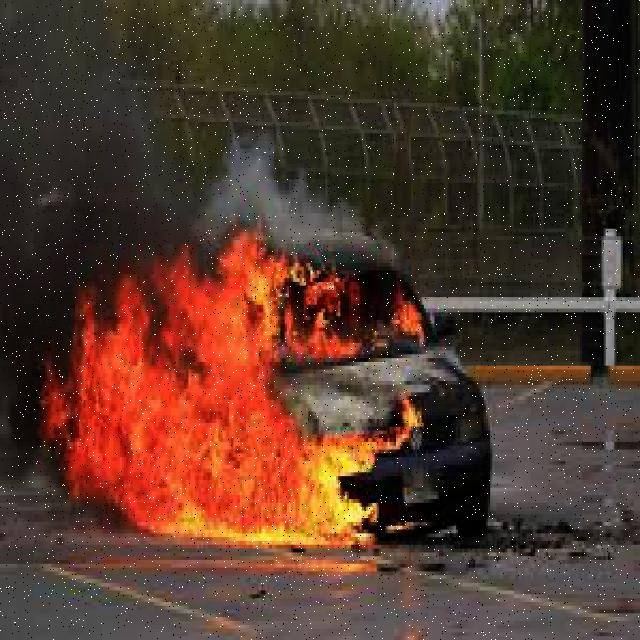fire: (69, 267, 390, 540)
smoke: (10, 23, 367, 246)
